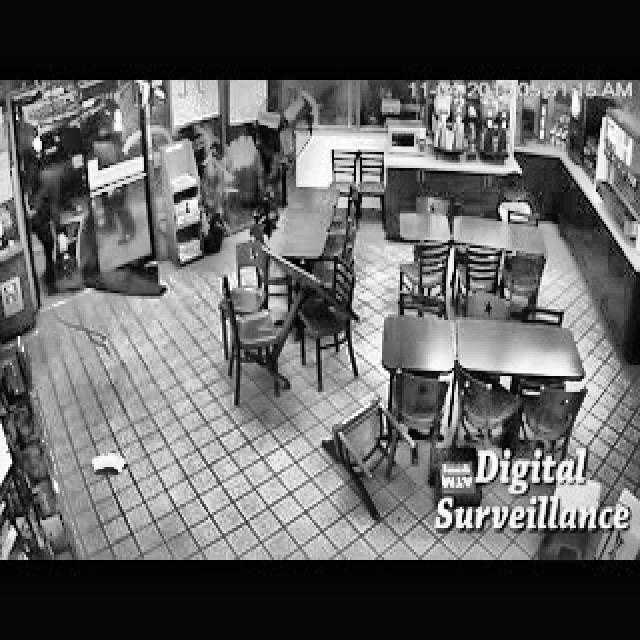burglary: (11, 108, 140, 300)
